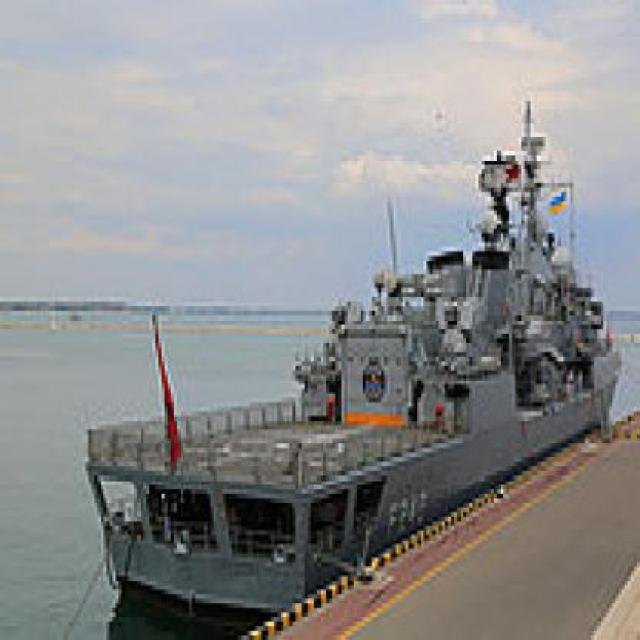warship2: (78, 97, 627, 614)
